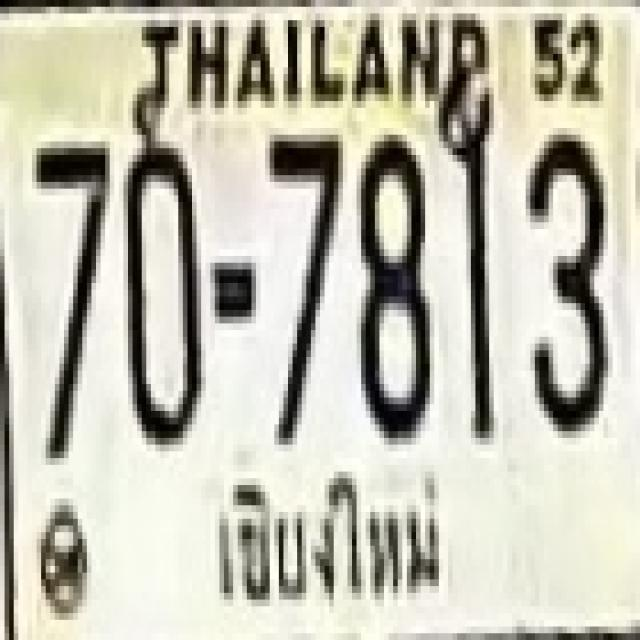0: (121, 138, 199, 441)
1: (439, 74, 494, 344)
3: (526, 128, 603, 431)
7: (32, 135, 105, 451), (265, 132, 338, 434), (265, 128, 338, 404), (265, 128, 338, 350), (265, 128, 338, 323)
8: (356, 132, 429, 434)
CMI: (190, 464, 454, 605)
